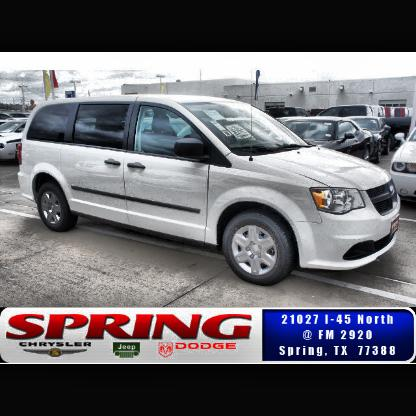Ram C-V Cargo Van Minivan 2012: (17, 97, 402, 290)
